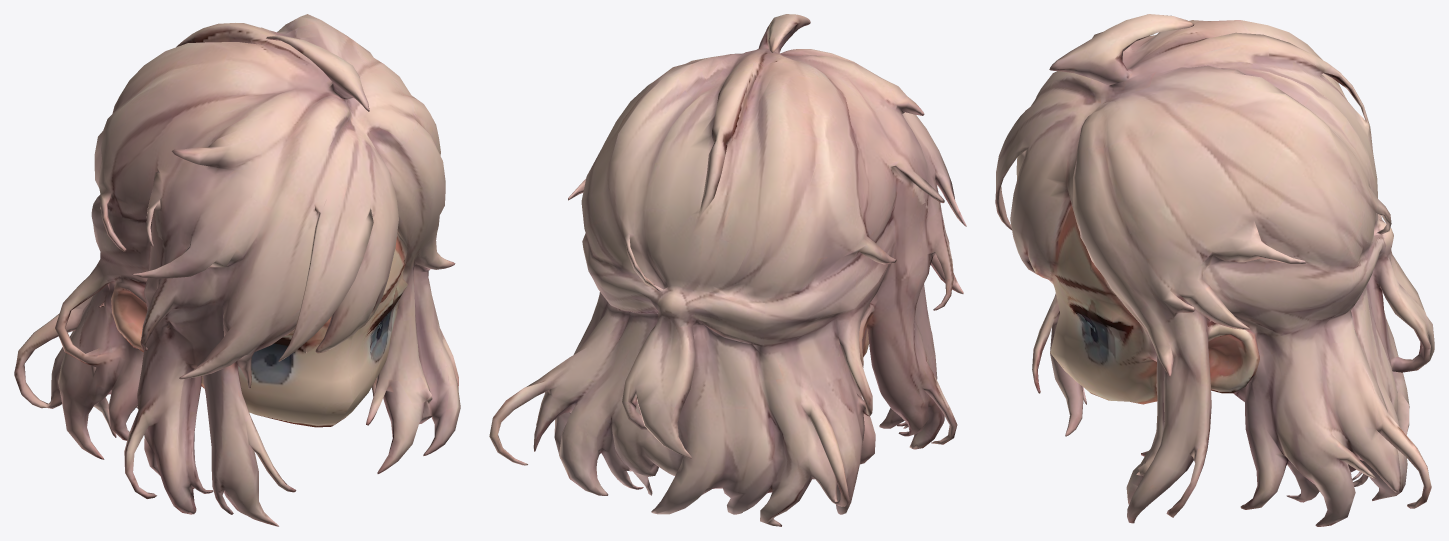
3 views of the same model, side by side, from view 1: azimuth 30°, elevation 25°; view 2: azimuth 150°, elevation 25°; view 3: azimuth 270°, elevation 25° (orthographic). The views are drawn at different scales.
Visible parts, largest first — view 1: tripo_node_d01808c7-d97c-490b-9704-b3685e891a35; view 2: tripo_node_d01808c7-d97c-490b-9704-b3685e891a35; view 3: tripo_node_d01808c7-d97c-490b-9704-b3685e891a35.
Part boxes in pixels (<box>): tripo_node_d01808c7-d97c-490b-9704-b3685e891a35: <box>14,14,460,526</box>; tripo_node_d01808c7-d97c-490b-9704-b3685e891a35: <box>489,14,966,526</box>; tripo_node_d01808c7-d97c-490b-9704-b3685e891a35: <box>995,14,1434,526</box>.
Bounding box in the file's own units: 0.4264 × 0.5096 × 0.4471.
Materials: 1 (1 with a texture image).
